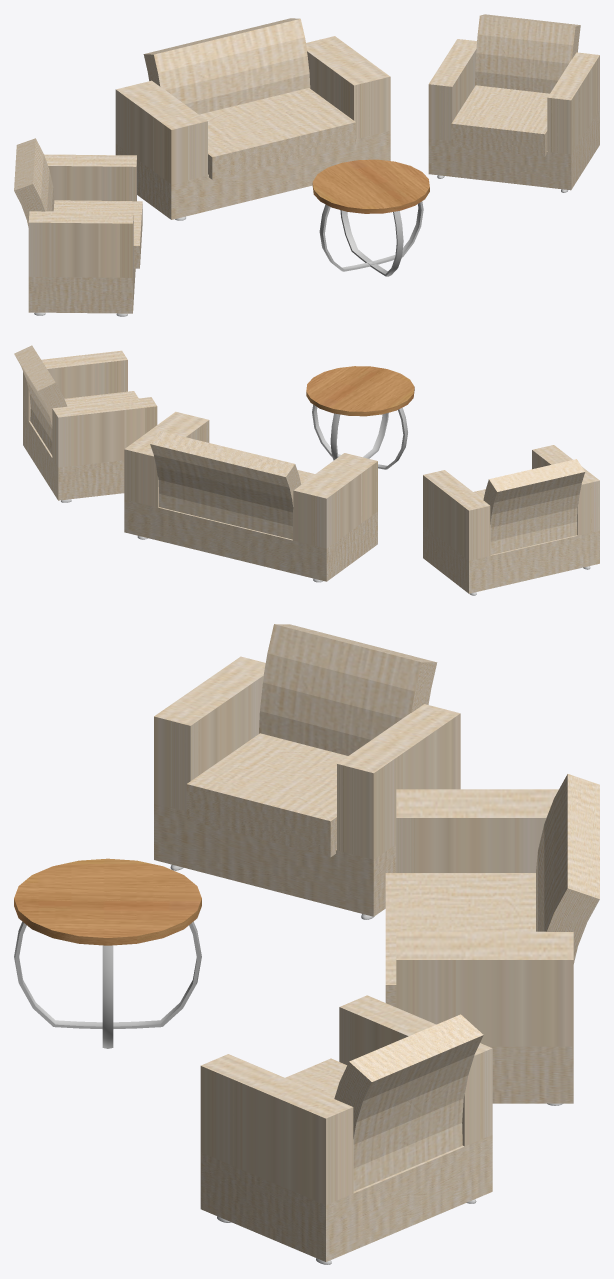
File: Sofa_Teatbale.fbx
3 renders of one model, top to bottom at view 1: azimuth 30°, elevation 25°; view 2: azimuth 150°, elevation 25°; view 3: azimuth 270°, elevation 25°, orthographic. The views are drawn at different scales.
Visible parts, largest first — view 1: Body1, Body3, Body2, pCylinder1, pSphere2, pSphere1; view 2: Body1, Body2, Body3, pCylinder1, pSphere1, pSphere2; view 3: Body2, Body3, Body1, pCylinder1, pSphere2, pSphere1.
Part boxes in pixels (x1,y1,x2,y2): Body1: (115, 18, 390, 219); Body3: (428, 14, 599, 190); Body2: (14, 138, 142, 313); pCylinder1: (312, 159, 429, 213); pSphere2: (340, 210, 403, 276); pSphere1: (319, 201, 423, 271); Body1: (124, 411, 377, 581); Body2: (423, 445, 599, 593); Body3: (14, 345, 157, 500); pCylinder1: (306, 366, 414, 416); pSphere1: (312, 404, 407, 469); pSphere2: (330, 412, 388, 460); Body2: (154, 624, 460, 916); Body3: (200, 995, 492, 1261); Body1: (385, 774, 599, 1103); pCylinder1: (14, 858, 201, 945); pSphere2: (14, 922, 201, 1028); pSphere1: (102, 945, 113, 1048).
Bounding box in the file's own units: 31.48 × 6.73 × 16.74.
